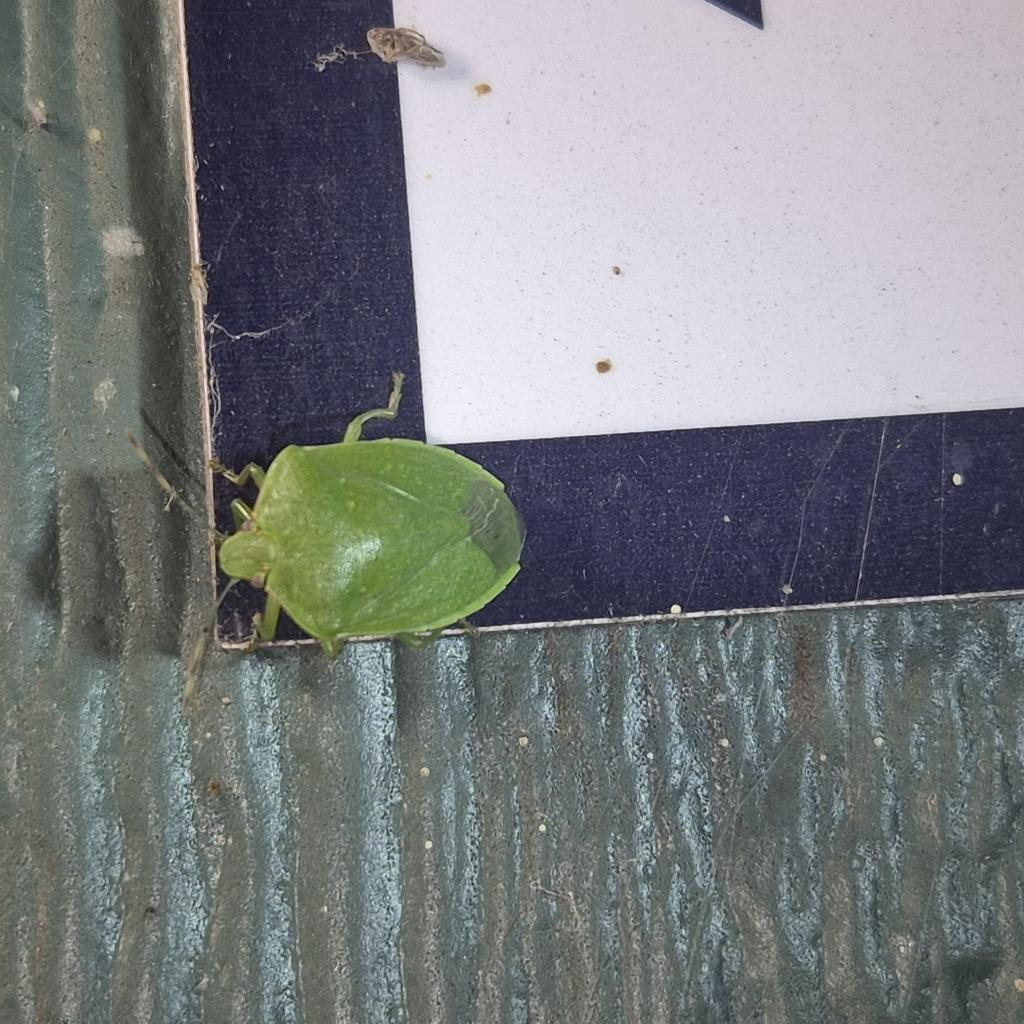stink_bugs: (118, 315, 634, 768)
